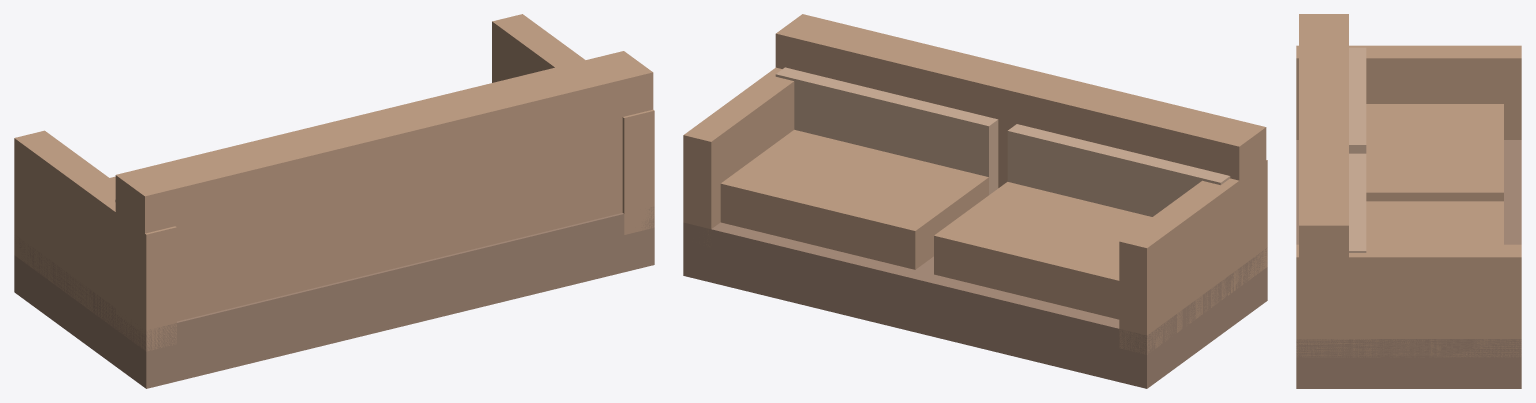
Rendered from sofa.glb.
The picture shows the model from 3 angles, left to right: view 1: azimuth 30°, elevation 25°; view 2: azimuth 150°, elevation 25°; view 3: azimuth 270°, elevation 25°; orthographic projection. The views are drawn at different scales.
Visible parts, largest first — view 1: sofa_3, sofa_0, sofa_6, sofa_7; view 2: sofa_0, sofa_3, sofa_2, sofa_1, sofa_6, sofa_5, sofa_4, sofa_7; view 3: sofa_7, sofa_3, sofa_1, sofa_0, sofa_6, sofa_2, sofa_4, sofa_5.
Boxes of the visible parts, bbox=[...] form: sofa_3: bbox=[115, 51, 653, 334]; sofa_0: bbox=[14, 206, 654, 388]; sofa_6: bbox=[14, 130, 176, 351]; sofa_7: bbox=[492, 14, 654, 234]; sofa_0: bbox=[683, 222, 1267, 388]; sofa_3: bbox=[775, 14, 1266, 187]; sofa_2: bbox=[720, 129, 988, 269]; sofa_1: bbox=[934, 182, 1152, 319]; sofa_6: bbox=[1119, 160, 1267, 354]; sofa_5: bbox=[775, 67, 998, 194]; sofa_4: bbox=[1007, 124, 1230, 216]; sofa_7: bbox=[683, 67, 794, 246]; sofa_7: bbox=[1296, 244, 1521, 357]; sofa_3: bbox=[1299, 14, 1348, 343]; sofa_1: bbox=[1366, 104, 1503, 201]; sofa_0: bbox=[1296, 140, 1521, 388]; sofa_6: bbox=[1296, 45, 1521, 139]; sofa_2: bbox=[1366, 201, 1503, 244]; sofa_4: bbox=[1349, 47, 1366, 153]; sofa_5: bbox=[1349, 153, 1366, 252].
Bounding box in the file's own units: 2 × 0.72 × 0.9.
